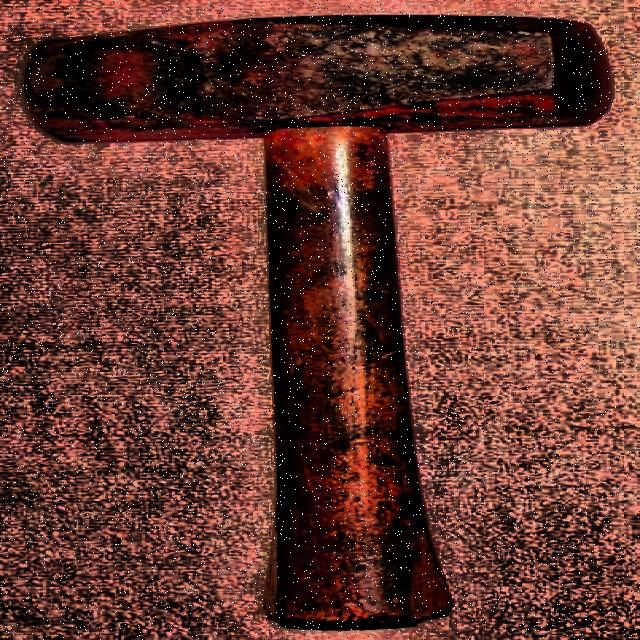hammer: (27, 5, 613, 629)
